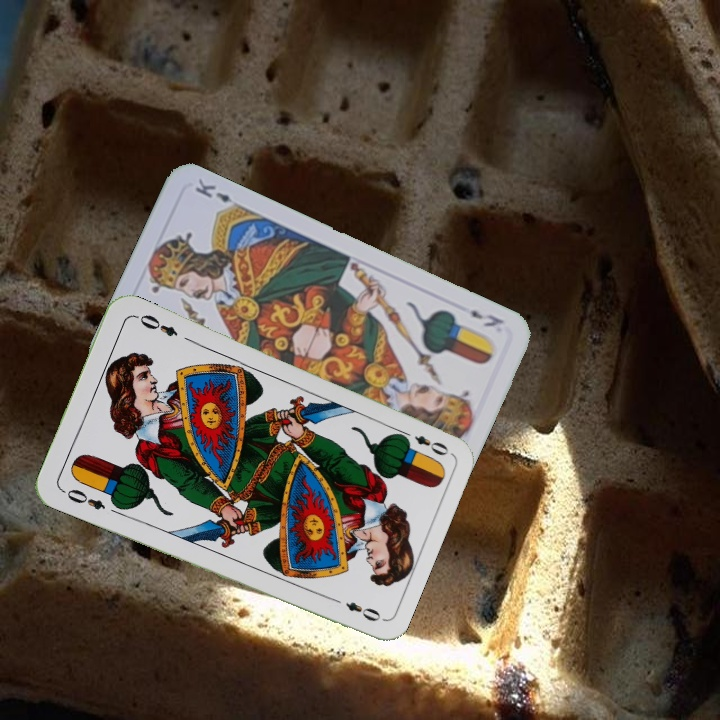EK: (466, 305, 507, 330)
EO: (395, 425, 451, 458), (58, 485, 108, 513)
